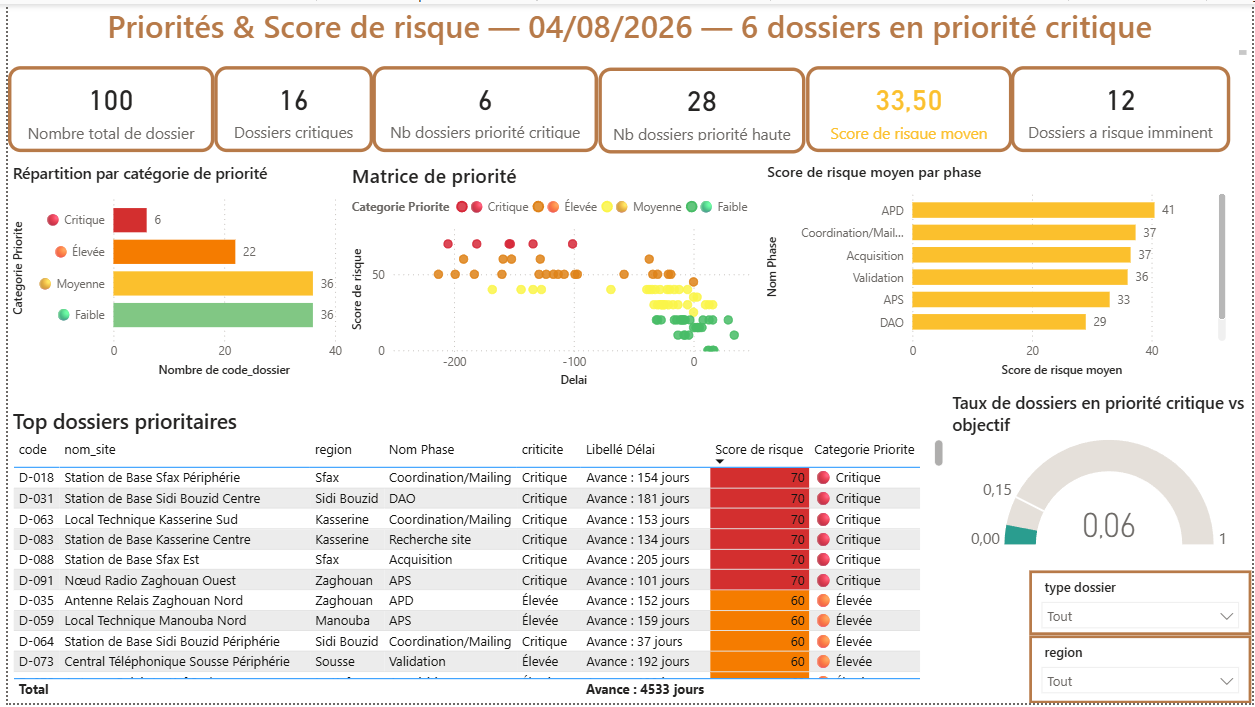

Layout of this report page (visuals, bound fields, positions):
{"tool":"powerbi","page":{"name":"Priorités","canvas":[1280,720],"ordinal":4},"visuals":[{"type":"slicer","fields":{"Values":["Dossier.region"]},"box":[1050.8,650,228.6,69.8],"z":0},{"type":"slicer","fields":{"Values":["Dossier.type_dossier"]},"box":[1050.8,583.3,228.6,66.8],"z":1000},{"type":"card","fields":{"Values":["Dossier.Dossiers critiques"]},"box":[212.3,64.4,163.6,88.2],"z":2000},{"type":"card","fields":{"Values":["Count(Dossier.dossier_id)"]},"box":[0,64.1,212.3,88.7],"z":3000},{"type":"card","fields":{"Values":["Dossier.Nombre dossiers priorité critique"]},"box":[375.3,64.1,232.5,88.2],"z":4000},{"type":"card","fields":{"Values":["Dossier.Nombre dossiers priorité haute"]},"box":[607.8,65.8,213.3,88.2],"z":5000},{"type":"textbox","box":[0,0,1279.7,57.7],"z":6000},{"type":"card","fields":{"Values":["Dossier.Dossiers a risque imminent"]},"box":[1032.8,64.1,226.1,88.2],"z":7000},{"type":"card","fields":{"Values":["Dossier.Score de risque moyen"]},"box":[821.1,64.1,212.3,88.7],"z":8000},{"type":"clusteredBarChart","title":"Répartition par catégorie de priorité","fields":{"Category":["Dossier.Categorie Priorite"],"Y":["Count(Dossier.code_dossier)"]},"box":[0,163.3,348.8,225.6],"z":9000},{"type":"tableEx","title":"Top dossiers prioritaires","fields":{"Values":["Dossier.code_dossier","Dossier.nom_site","Dossier.region","Dossier.Nom Phase","Dossier.criticite","Dossier.Libellé Délai","Dossier.Score de risque","Dossier.Categorie Priorite"]},"box":[0,414.1,967.6,305.7],"z":10000},{"type":"scatterChart","title":"Matrice de priorité","fields":{"X":["Dossier.Delai"],"Y":["Dossier.Score de risque"],"Series":["Dossier.Categorie Priorite"]},"box":[348.8,163.3,427.4,236],"z":11000},{"type":"clusteredBarChart","title":"Score de risque moyen par phase","fields":{"Y":["Dossier.Score de risque moyen"],"Category":["Dossier.Nom Phase"]},"box":[776.2,163.3,482.3,225.6],"z":12000},{"type":"gauge","title":"Taux de dossiers en priorité critique vs objectif","fields":{"Y":["Dossier.Taux dossiers priorité critique"],"TargetValue":["Dossier.Objectif taux priorité critique"],"MaxValue":["Dossier.Maximum taux"]},"box":[966.9,398.7,312.4,168],"z":13000}]}

Visuals, with their boxes in screenshot pixels (x1, y1, x2, y2), scaled from the page's 1280x720 canvas onto the 1255x707 screenshot:
slicer - Dossier.region: bbox=(1030, 638, 1254, 706)
slicer - Dossier.type_dossier: bbox=(1030, 573, 1254, 638)
card - Dossier.Dossiers critiques: bbox=(208, 63, 369, 150)
card - Count(Dossier.dossier_id): bbox=(0, 63, 208, 150)
card - Dossier.Nombre dossiers priorité critique: bbox=(368, 63, 596, 150)
card - Dossier.Nombre dossiers priorité haute: bbox=(596, 65, 805, 151)
textbox: bbox=(0, 0, 1254, 57)
card - Dossier.Dossiers a risque imminent: bbox=(1013, 63, 1234, 150)
card - Dossier.Score de risque moyen: bbox=(805, 63, 1013, 150)
"Répartition par catégorie de priorité" clusteredBarChart: bbox=(0, 160, 342, 382)
"Top dossiers prioritaires" tableEx: bbox=(0, 407, 949, 706)
"Matrice de priorité" scatterChart: bbox=(342, 160, 761, 392)
"Score de risque moyen par phase" clusteredBarChart: bbox=(761, 160, 1234, 382)
"Taux de dossiers en priorité critique vs objectif" gauge: bbox=(948, 392, 1254, 556)
